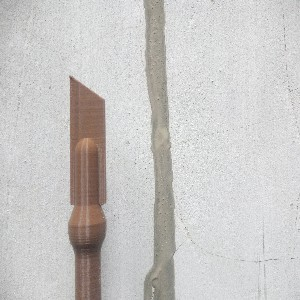cutter: (66, 74, 108, 300)
